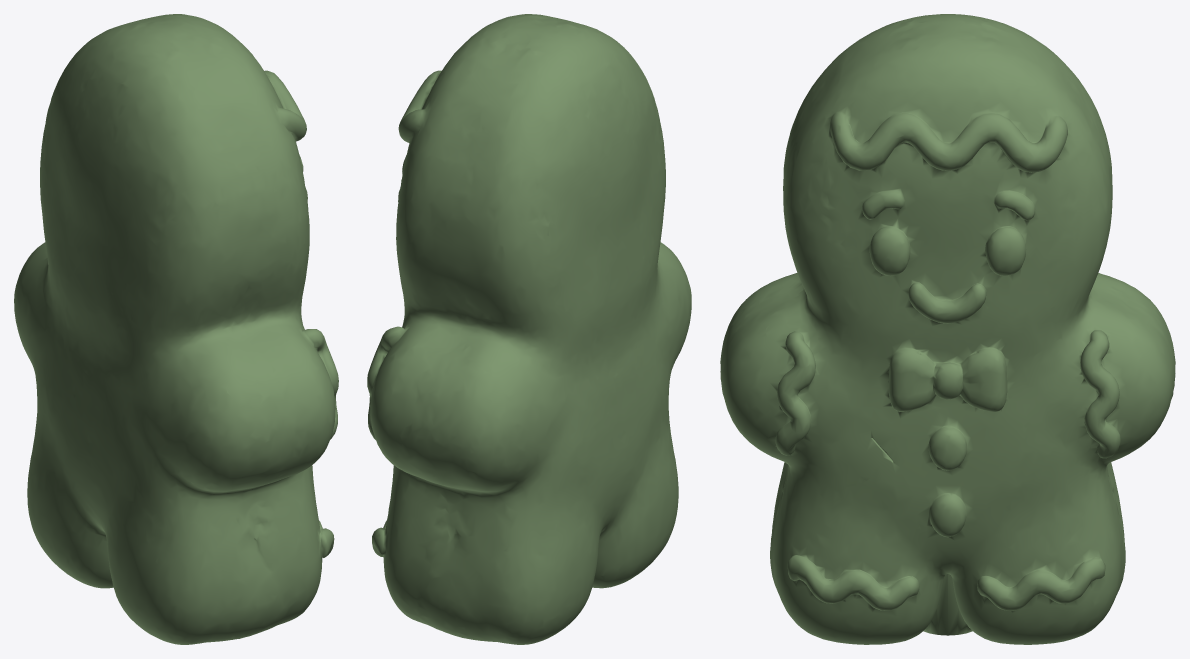
Rendered from gingerbread-friend.glb.
3 views of the same model, side by side, from view 1: azimuth 30°, elevation 25°; view 2: azimuth 150°, elevation 25°; view 3: azimuth 270°, elevation 25° (orthographic). The views are drawn at different scales.
Parts seen in each view (by area): view 1: tripo_printable_source; view 2: tripo_printable_source; view 3: tripo_printable_source.
Boxes of the visible parts, x1=… form: tripo_printable_source: x1=14, y1=14, x2=338, y2=644; tripo_printable_source: x1=367, y1=14, x2=691, y2=644; tripo_printable_source: x1=720, y1=14, x2=1175, y2=644.
Size of the model in its own units: 35.81 by 100 by 70.
